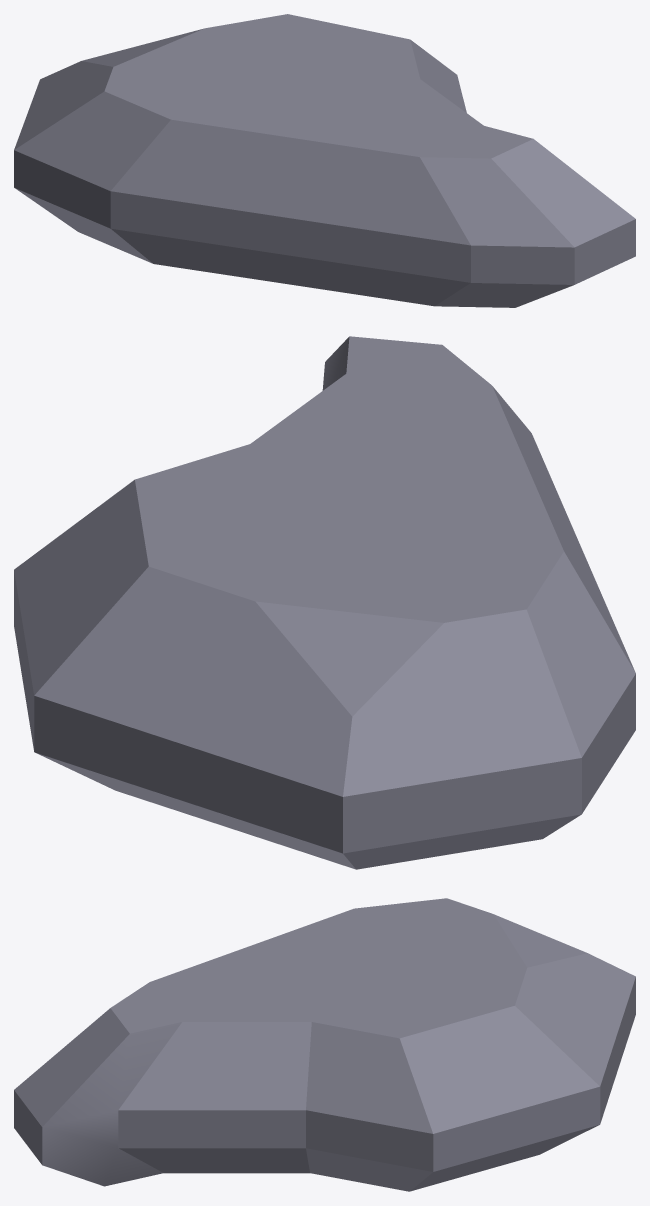
File: rock_6.fbx
The picture shows the model from 3 angles, top to bottom: view 1: azimuth 30°, elevation 25°; view 2: azimuth 150°, elevation 25°; view 3: azimuth 270°, elevation 25°; orthographic projection. The views are drawn at different scales.
Visible parts, largest first — view 1: rock_6; view 2: rock_6; view 3: rock_6.
Boxes of the visible parts, x1=… form: rock_6: x1=14, y1=14, x2=635, y2=307; rock_6: x1=14, y1=336, x2=635, y2=869; rock_6: x1=14, y1=898, x2=635, y2=1191.
Size of the model in its own units: 0.7849 by 0.2598 by 1.02.
1 material, 1 textured.
